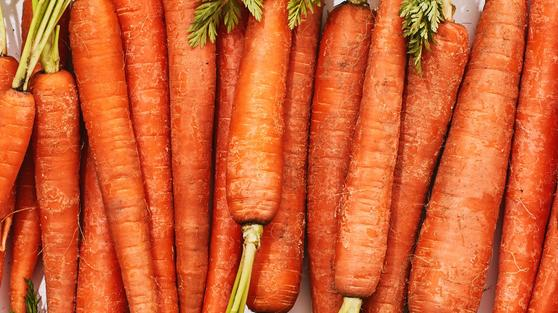carrot: (414, 1, 533, 313), (74, 11, 159, 313), (329, 5, 411, 301), (160, 2, 220, 311), (226, 1, 298, 225), (27, 62, 85, 313)
